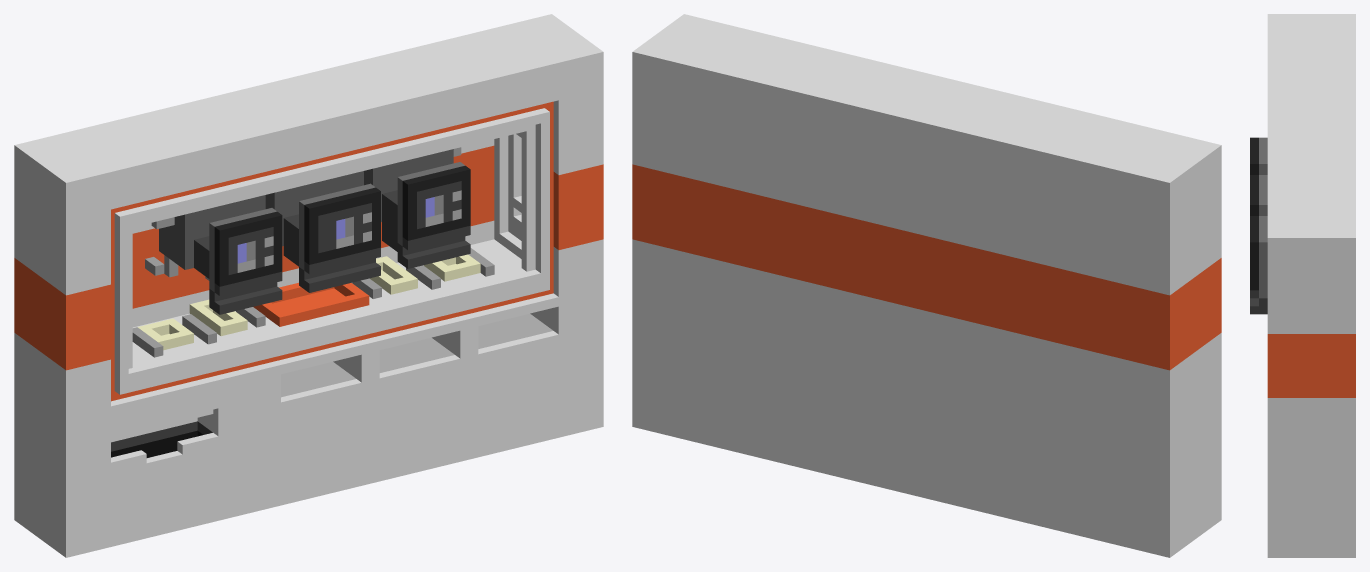
The model's file is Commisary Wall 3.obj.
The picture shows the model from 3 angles, left to right: view 1: azimuth 30°, elevation 25°; view 2: azimuth 150°, elevation 25°; view 3: azimuth 270°, elevation 25°; orthographic projection. The views are drawn at different scales.
Bounding box in the file's own units: 60 × 40 × 12.
1 material, 1 textured.
